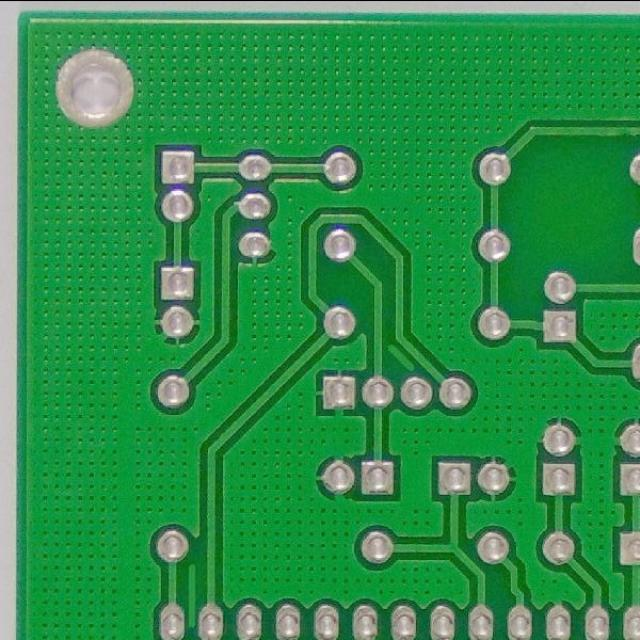Spurious_Cooper: (182, 558, 202, 633), (384, 338, 420, 376)
